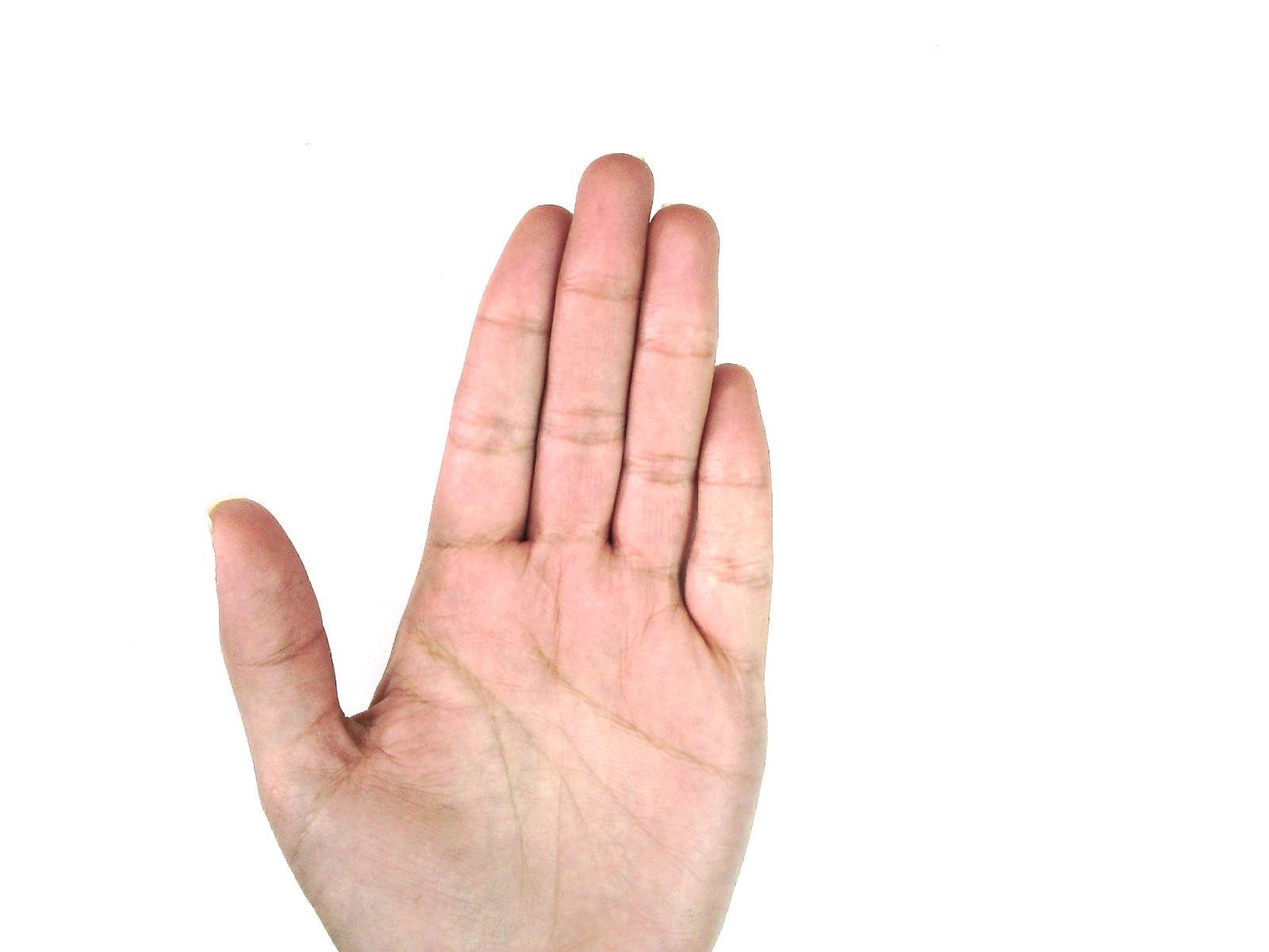open_palm: (206, 152, 777, 951)
